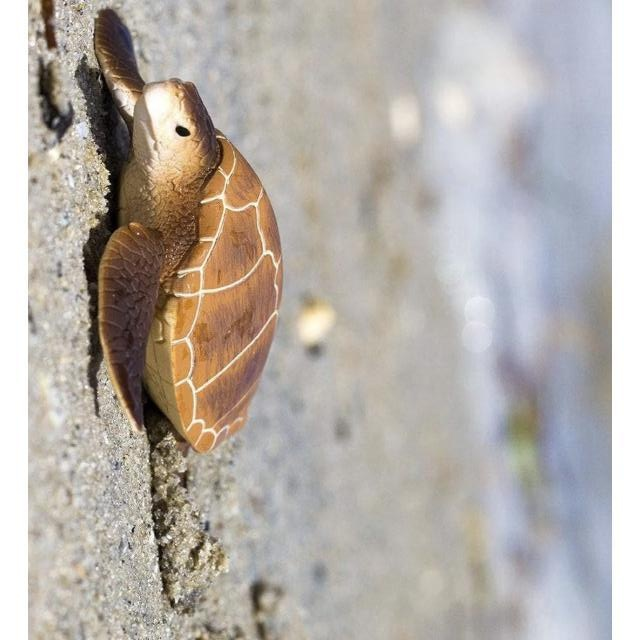turtle: (91, 8, 283, 458)
